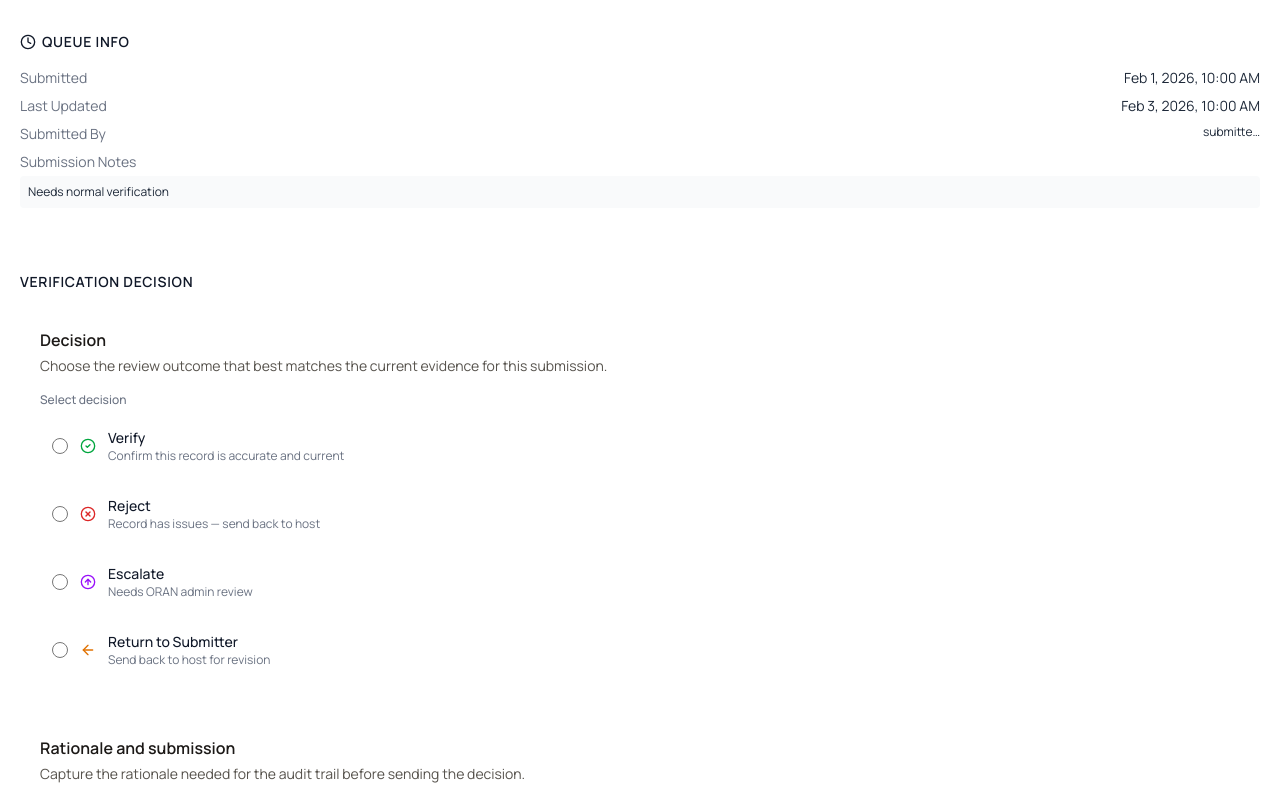
Test: community admin verify page › shows fallback decision error when API failure has no JSON body
(page scrolled)
Step 1. Click the radio button labelled "Verify Confirm this record is accurate and current" → (60, 446), box left=52, top=438, right=68, bottom=454
(page scrolled)
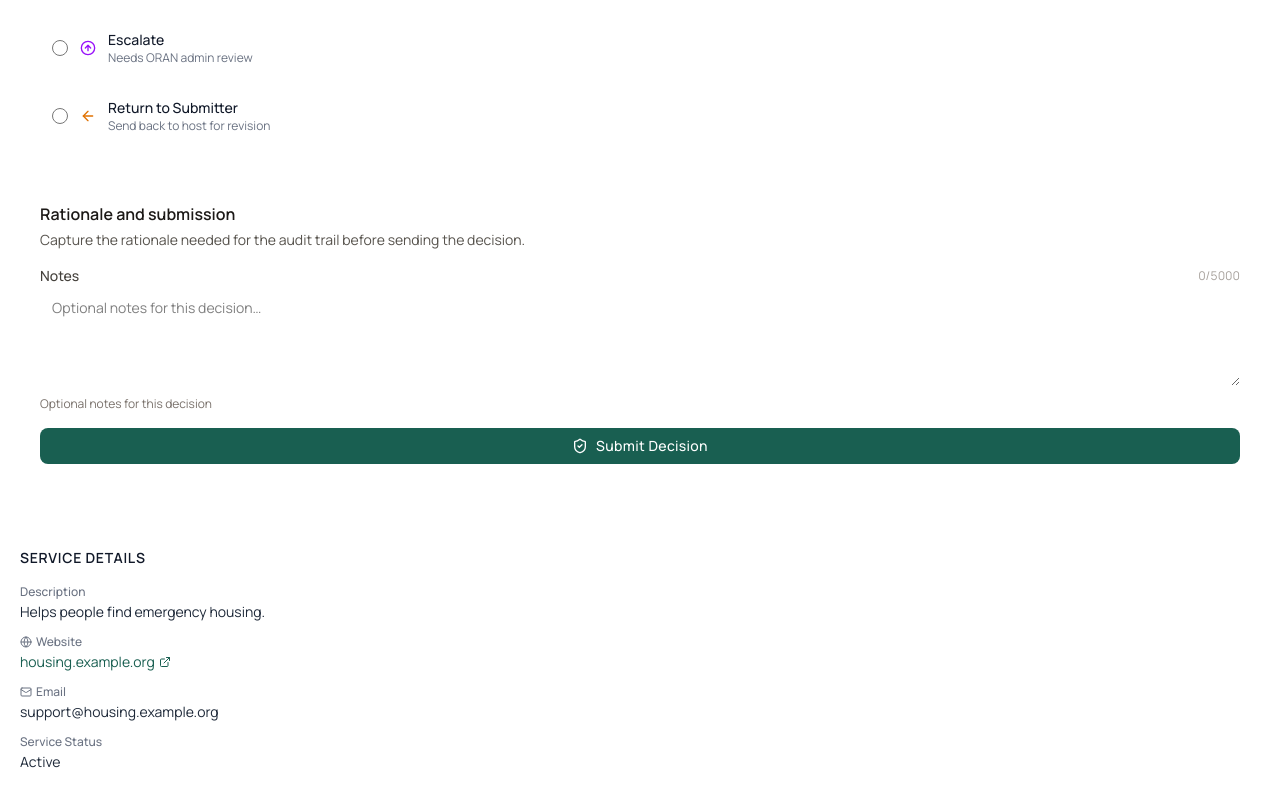
Step 2. Click the button "Submit Decision" → (640, 446), box left=40, top=428, right=1240, bottom=464
(page scrolled)
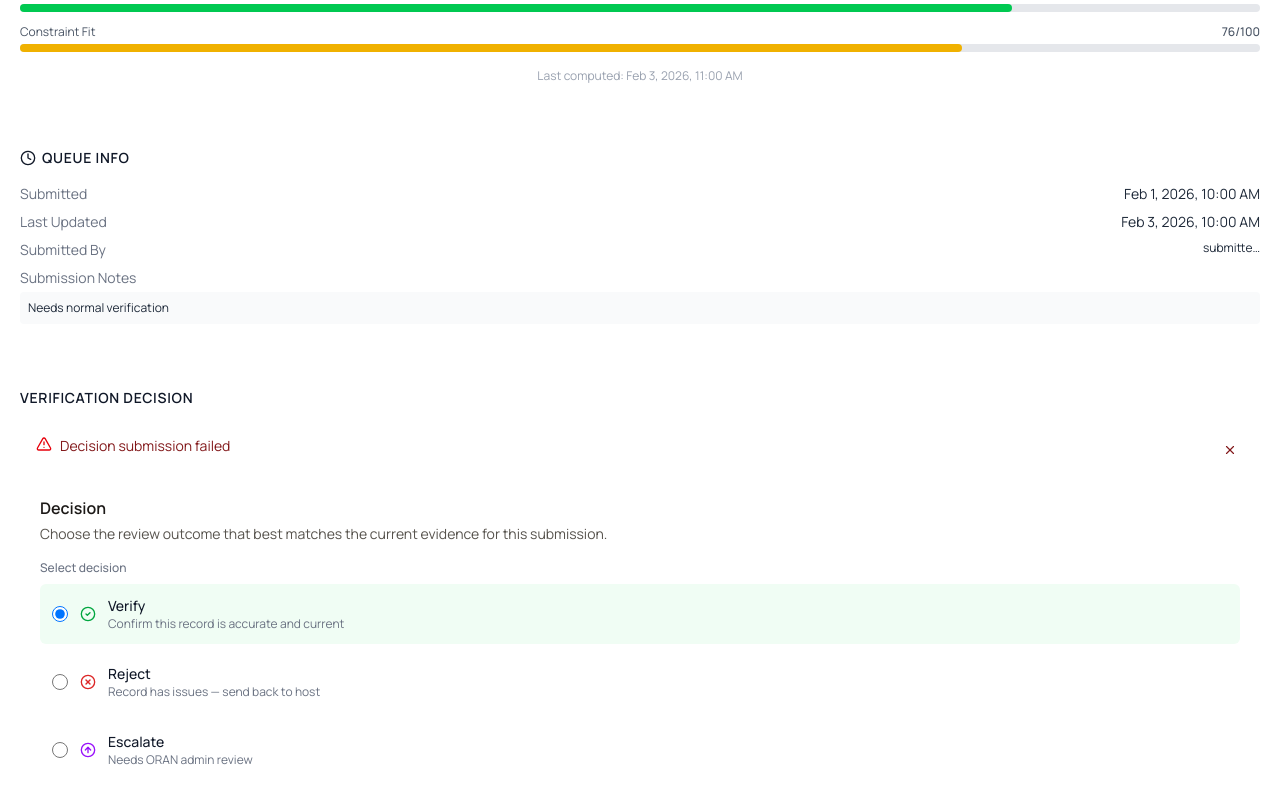
Expected: the message "Decision submission failed" is shown, left=36, top=436, right=1244, bottom=464
Expected: the text "Decision submission failed" is shown, left=60, top=436, right=230, bottom=455
